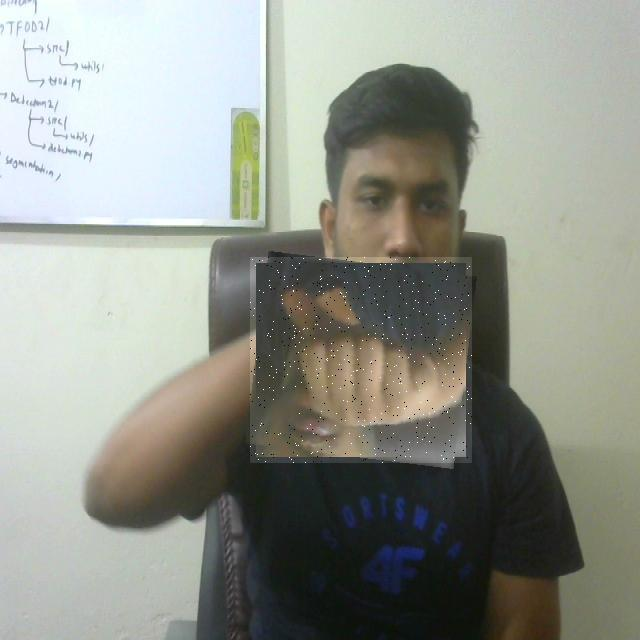Yes: (250, 257, 472, 463)
